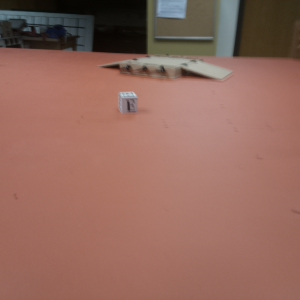blockE: (118, 91, 139, 112)
corner: (287, 23, 300, 63)
side: (120, 61, 179, 83)
slope: (186, 59, 235, 84), (99, 62, 119, 71)
